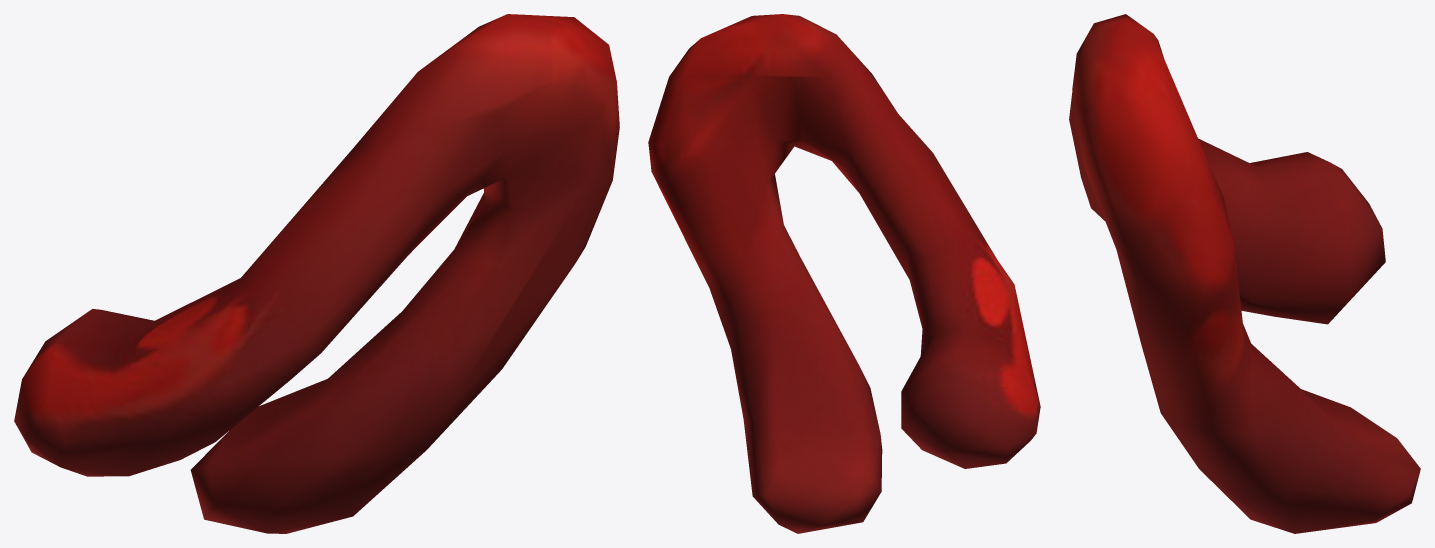
File: Face_Mucle_05.glb
3 views of the same model, side by side, from view 1: azimuth 30°, elevation 25°; view 2: azimuth 150°, elevation 25°; view 3: azimuth 270°, elevation 25° (orthographic). The views are drawn at different scales.
Visible parts, largest first — view 1: Face_Mucle_05; view 2: Face_Mucle_05; view 3: Face_Mucle_05.
Boxes of the visible parts, x1=… form: Face_Mucle_05: x1=14, y1=14, x2=619, y2=533; Face_Mucle_05: x1=648, y1=14, x2=1040, y2=533; Face_Mucle_05: x1=1069, y1=14, x2=1420, y2=533.
Size of the model in its own units: 0.1164 by 0.1128 by 0.063.
Materials: 1 (1 with a texture image).
